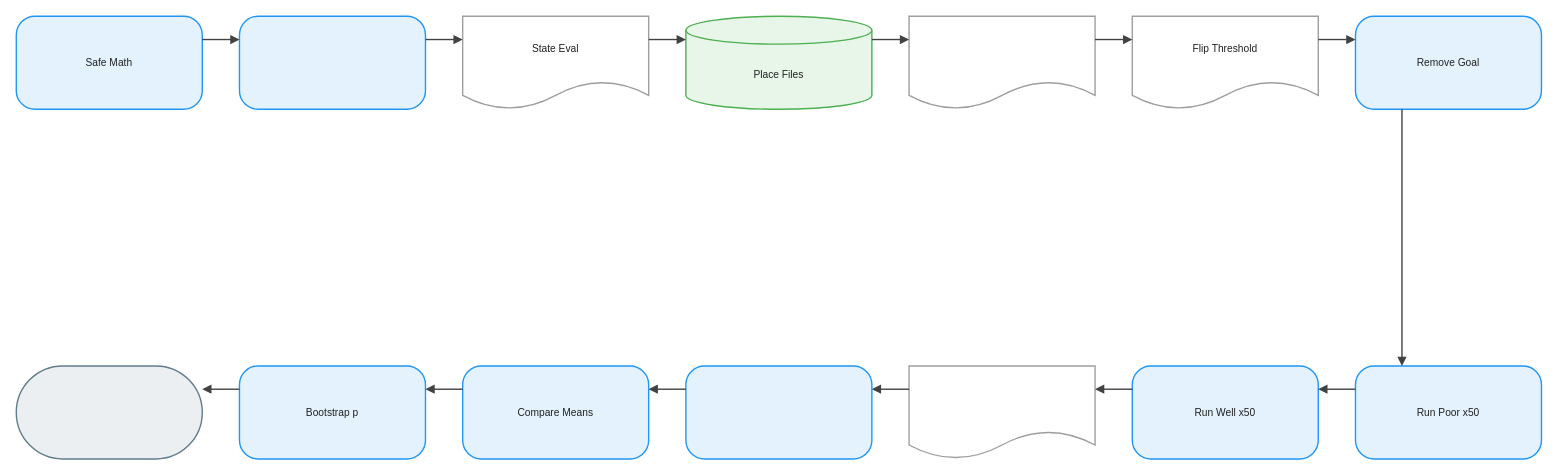
This 1559x476 diagram has some shape labels left out. Here are the shapes that lost their labels. From the top down, the centre of each, then its label:
[332,62]: Optional Goal
[1001,62]: High >50%
[109,412]: Read Evidence
[778,412]: Score Accuracy
[1001,412]: Get Answers
